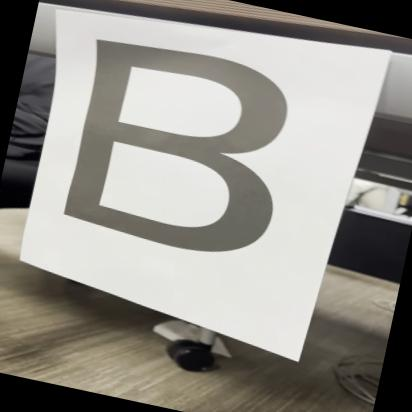seat: (39, 25, 326, 283)
